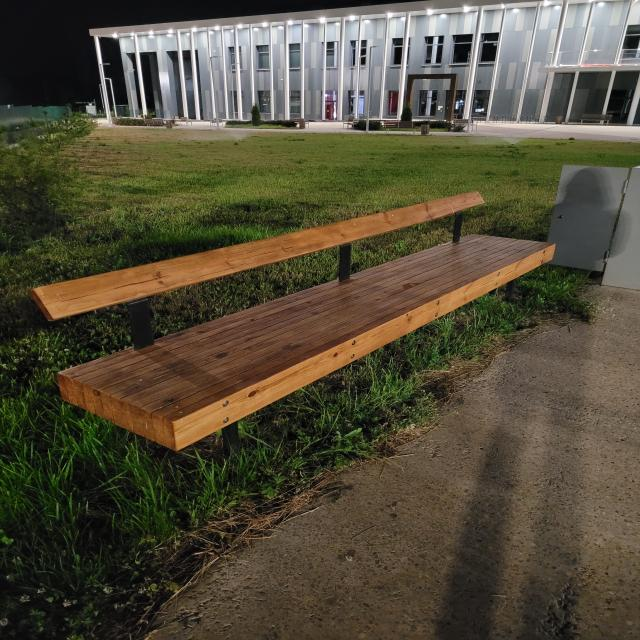Bench: (29, 191, 555, 462)
